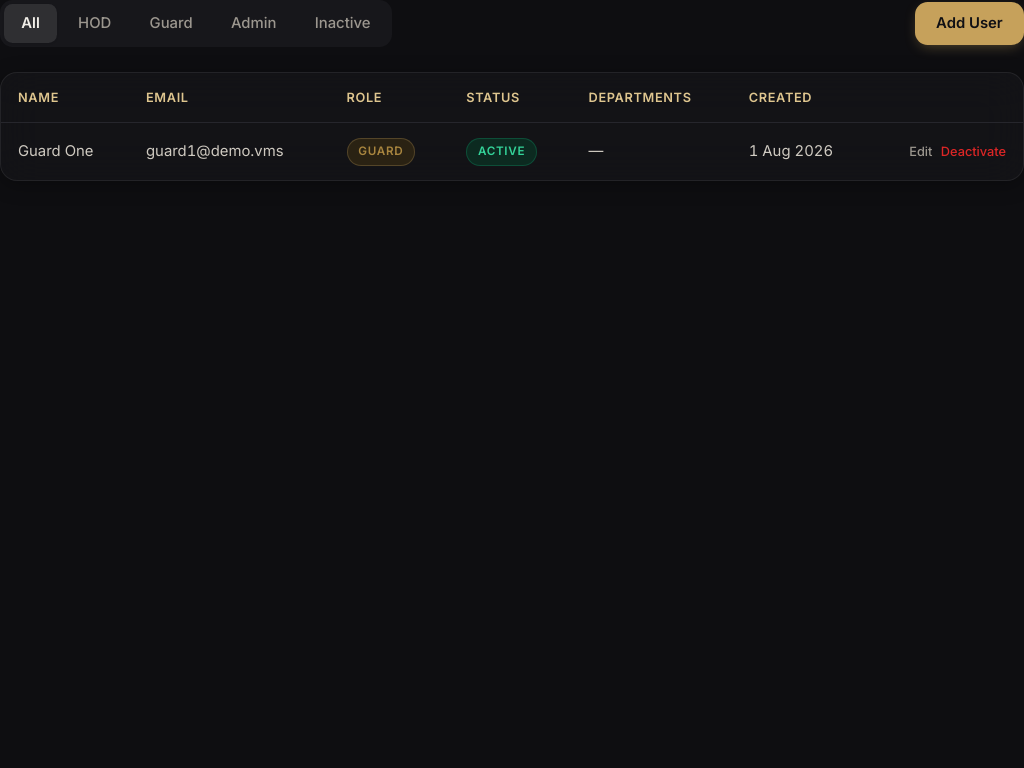
Test: UsersTab — popup close controls › Edit User: Escape closes without saving
Check: the text "Guard One" is shown, box [1,123,129,180]
Click the button "Edit" at (921, 152), box [909,143,932,160]
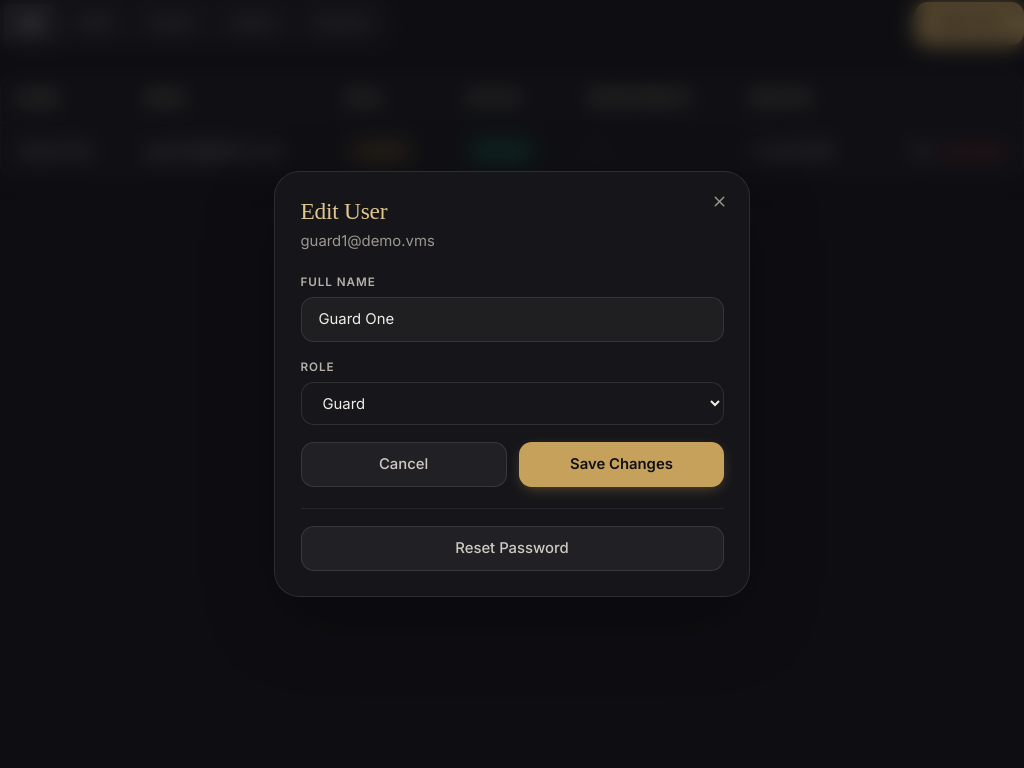
Check: the heading "Edit User" is shown, box [300,198,387,224]
Press Escape
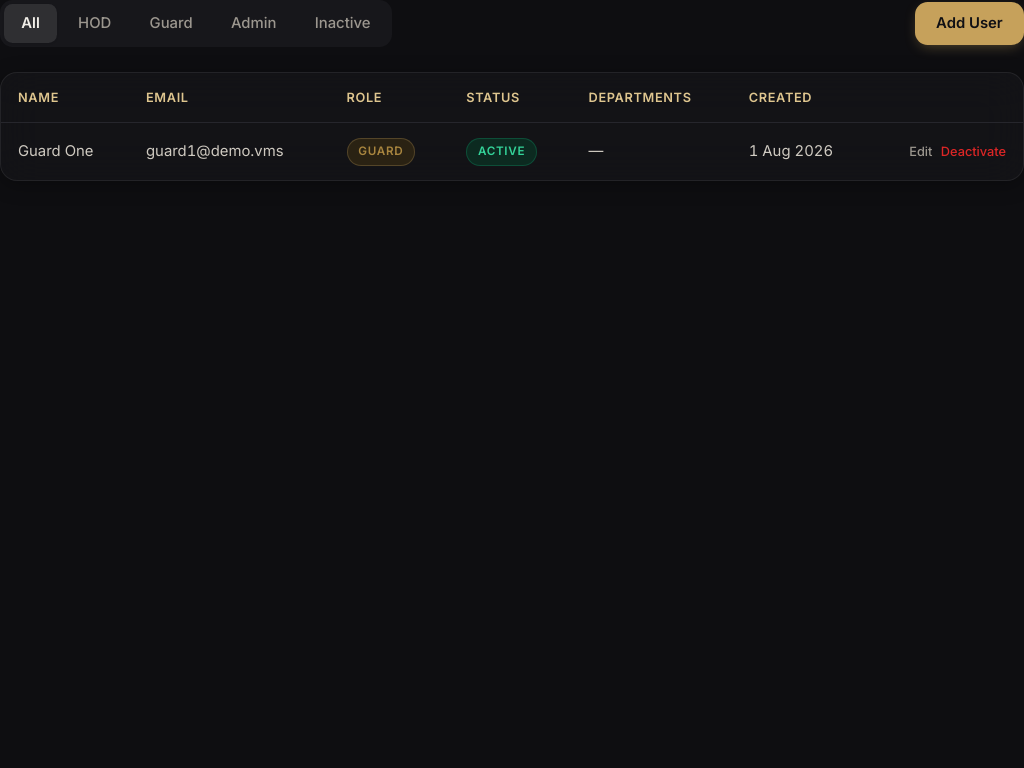
Check: the heading "Edit User" is gone
